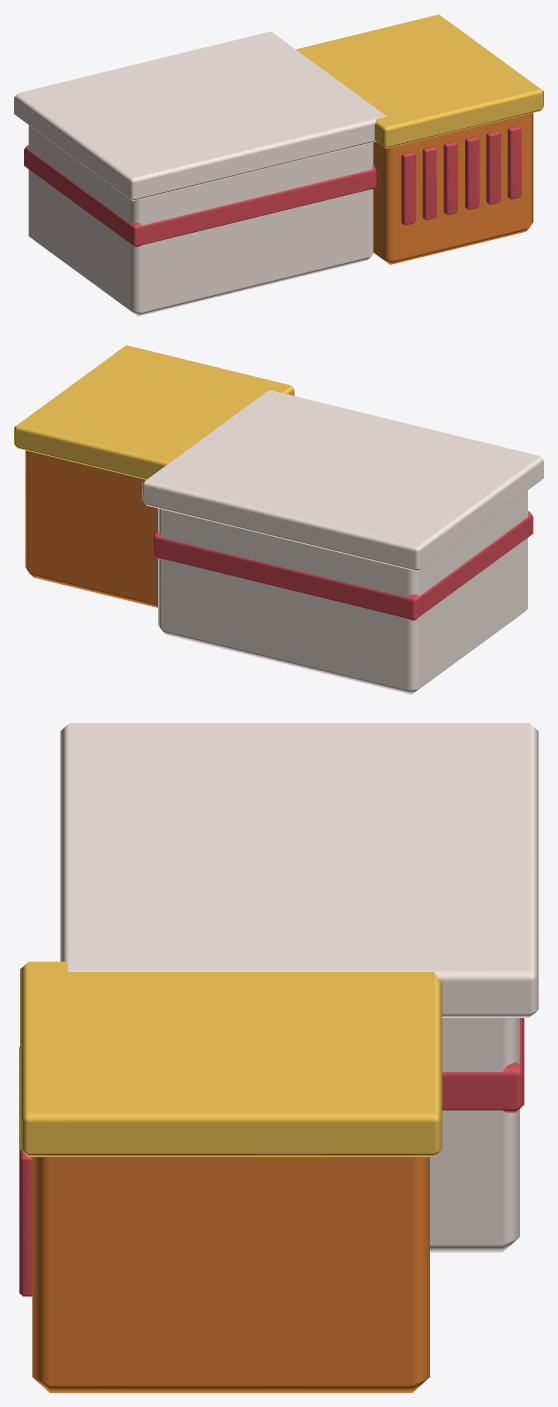
Rendered from crates.glb.
The picture shows the model from 3 angles, top to bottom: view 1: azimuth 30°, elevation 25°; view 2: azimuth 150°, elevation 25°; view 3: azimuth 270°, elevation 25°; orthographic projection. The views are drawn at different scales.
Parts seen in each view (by area): view 1: crates; view 2: crates; view 3: crates.
Boxes of the visible parts, x1,y1,x2,y2 form: crates: (14, 14, 543, 316); crates: (14, 345, 543, 694); crates: (19, 723, 538, 1392).
Size of the model in its own units: 1.5 by 0.5225 by 0.836.
